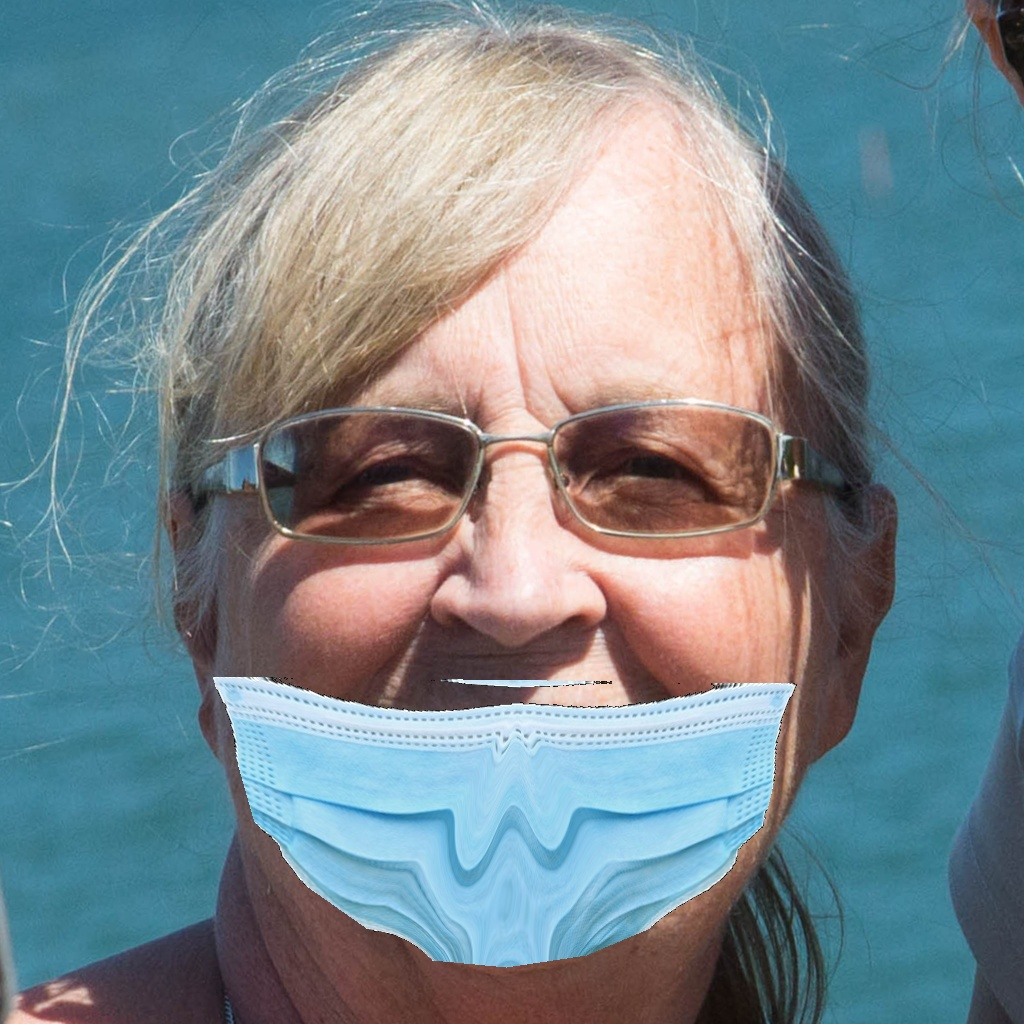mascarilla_mal_puesta: (166, 375, 876, 978)
